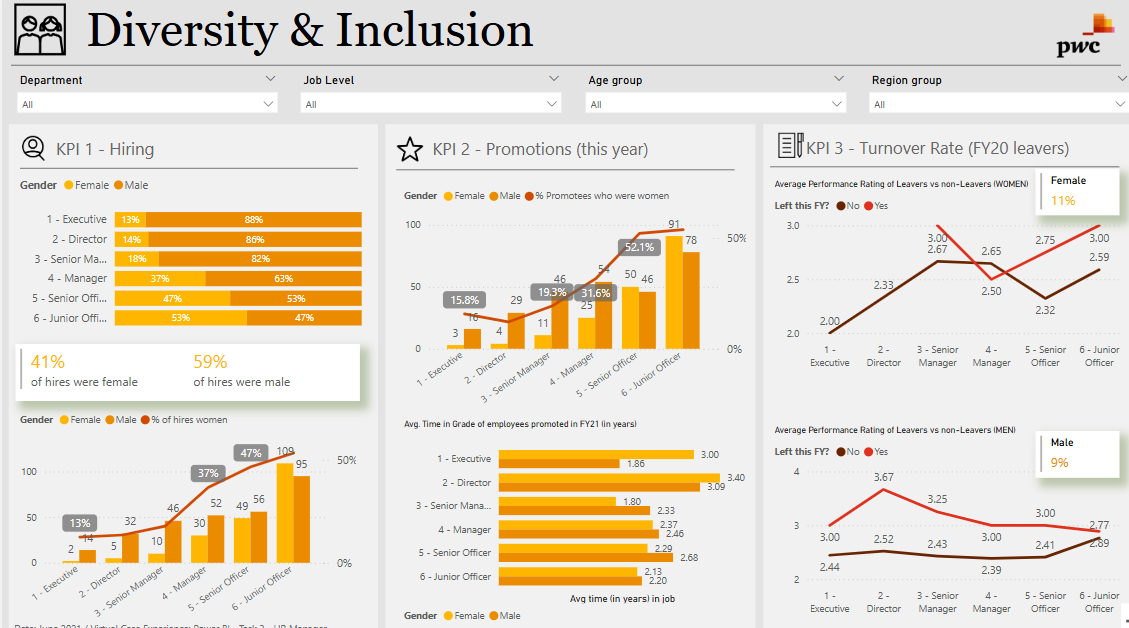

This screenshot's page, from the dashboard's own definition file:
{"tool":"powerbi","page":{"name":"HR Manager (1/2)","canvas":[1280,720],"ordinal":0},"visuals":[{"type":"textbox","box":[88.7,4.8,1172.9,75.2],"z":0},{"type":"basicShape","box":[0,60.8,1253,40.5],"z":1000},{"type":"basicShape","box":[3.9,139.9,418.6,579.7],"z":2000},{"type":"hundredPercentStackedBarChart","fields":{"Series":["HR Manager.Gender"],"Y":["CountNonNull(HR Manager.Employee ID)"],"Category":["HR Manager.Job Level after FY20 promotions"]},"box":[14.5,193.9,389.7,190],"z":3000},{"type":"multiRowCard","fields":{"Values":["HR Manager.% of hires women","HR Manager.% of hires men"]},"box":[14.5,390.7,382.9,63.7],"z":4000},{"type":"lineClusteredColumnComboChart","fields":{"Category":["HR Manager.Job Level after FY20 promotions"],"Series":["HR Manager.Gender"],"Y":["CountNonNull(HR Manager.Employee ID)"],"Y2":["HR Manager.% of hires women"]},"box":[14.5,455.3,382.9,250.8],"z":5000},{"type":"textbox","box":[55,155.3,315.4,35.7],"z":6000},{"type":"basicShape","box":[9.6,175.6,395.5,39.5],"z":7000},{"type":"basicShape","box":[422.5,139.9,419.6,579.7],"z":8000},{"type":"textbox","box":[473,155.7,315.4,35.7],"z":9000},{"type":"basicShape","box":[427.7,175.9,395.5,39.5],"z":10000},{"type":"image","box":[433.1,153.4,39.5,40.5],"z":11000},{"type":"lineClusteredColumnComboChart","fields":{"Y":["CountNonNull(HR Manager.Employee ID)"],"Series":["HR Manager.Gender"],"Y2":["HR Manager.% Promotees who were women"],"Category":["HR Manager.Job Level after FY21 promotions"]},"box":[441.8,207.4,389.7,263.3],"z":12000},{"type":"image","box":[1129,0,151,94.5],"z":13000},{"type":"image","box":[8.7,0,67.5,81],"z":14000},{"type":"image","box":[15.4,153.4,39.5,38.6],"z":15000},{"type":"basicShape","box":[842.1,139.9,419.6,579.7],"z":16000},{"type":"basicShape","box":[843.4,173,408,39.5],"z":17000},{"type":"textbox","box":[888.5,152.5,315.4,35.7],"z":18000},{"type":"clusteredBarChart","title":"Avg. Time in Grade of employees promoted in FY21 (in years)","fields":{"Category":["HR Manager.Job Level after FY20 promotions"],"Series":["HR Manager.Gender"],"Y":["Avg(HR Manager.Time in Job Level @01.07.2020)"]},"box":[441.8,473.6,389.7,236.3],"z":19000},{"type":"lineChart","title":"Average Performance Rating of Leavers vs non-Leavers (WOMEN)","fields":{"Category":["HR Manager.Job Level after FY20 promotions"],"Y":["Avg(HR Manager.FY19 Performance Rating)"],"Series":["HR Manager.FY20 leaver?"]},"box":[852.7,207.4,398.4,218],"z":20000},{"type":"lineChart","title":"Average Performance Rating of Leavers vs non-Leavers (MEN)","fields":{"Category":["HR Manager.Job Level after FY20 promotions"],"Y":["Avg(HR Manager.FY19 Performance Rating)"],"Series":["HR Manager.FY20 leaver?"]},"box":[852.7,479.4,398.4,218],"z":21000},{"type":"multiRowCard","fields":{"Values":["HR Manager.Gender","HR Manager.% Turnover"]},"box":[1148.8,195.8,93.6,52.1],"z":22000},{"type":"multiRowCard","fields":{"Values":["HR Manager.Gender","HR Manager.% Turnover"]},"box":[1148.8,487.1,93.6,52.1],"z":23000},{"type":"slicer","fields":{"Values":["HR Manager.Last Department in FY20"]},"box":[6.8,83.9,310,55.9],"z":24000},{"type":"slicer","fields":{"Values":["HR Manager.Job Level after FY20 promotions"]},"box":[322.5,83.9,310,55.9],"z":25000},{"type":"slicer","fields":{"Values":["HR Manager.Age group"]},"box":[638.2,83.9,310,55.9],"z":26000},{"type":"slicer","fields":{"Values":["HR Manager.Broad region group: nationality 1"]},"box":[954,83.9,310,55.9],"z":27000},{"type":"image","box":[852.7,149.5,47.3,38.6],"z":28000},{"type":"actionButton","box":[1243.1,679.1,36.9,40.2],"z":29000},{"type":"textbox","box":[7.7,689.7,397.4,29.9],"z":30000}]}

Visuals, with their boxes in screenshot pixels (x1, y1, x2, y2), scaled from the page's 1280x720 canvas onto the 1129x628 screenshot:
textbox: {"left": 78, "top": 4, "right": 1113, "bottom": 70}
basicShape: {"left": 0, "top": 53, "right": 1105, "bottom": 88}
basicShape: {"left": 3, "top": 122, "right": 373, "bottom": 627}
hundredPercentStackedBarChart - HR Manager.Gender x CountNonNull(HR Manager.Employee ID): {"left": 13, "top": 169, "right": 357, "bottom": 335}
multiRowCard - HR Manager.% of hires women x HR Manager.% of hires men: {"left": 13, "top": 341, "right": 351, "bottom": 396}
lineClusteredColumnComboChart - HR Manager.Job Level after FY20 promotions x HR Manager.Gender: {"left": 13, "top": 397, "right": 351, "bottom": 616}
textbox: {"left": 49, "top": 135, "right": 327, "bottom": 167}
basicShape: {"left": 8, "top": 153, "right": 357, "bottom": 188}
basicShape: {"left": 373, "top": 122, "right": 743, "bottom": 627}
textbox: {"left": 417, "top": 136, "right": 695, "bottom": 167}
basicShape: {"left": 377, "top": 153, "right": 726, "bottom": 188}
image: {"left": 382, "top": 134, "right": 417, "bottom": 169}
lineClusteredColumnComboChart - CountNonNull(HR Manager.Employee ID) x HR Manager.Gender: {"left": 390, "top": 181, "right": 733, "bottom": 411}
image: {"left": 996, "top": 0, "right": 1128, "bottom": 82}
image: {"left": 8, "top": 0, "right": 67, "bottom": 71}
image: {"left": 14, "top": 134, "right": 48, "bottom": 167}
basicShape: {"left": 743, "top": 122, "right": 1113, "bottom": 627}
basicShape: {"left": 744, "top": 151, "right": 1104, "bottom": 185}
textbox: {"left": 784, "top": 133, "right": 1062, "bottom": 164}
"Avg. Time in Grade of employees promoted in FY21 (in years)" clusteredBarChart: {"left": 390, "top": 413, "right": 733, "bottom": 619}
"Average Performance Rating of Leavers vs non-Leavers (WOMEN)" lineChart: {"left": 752, "top": 181, "right": 1104, "bottom": 371}
"Average Performance Rating of Leavers vs non-Leavers (MEN)" lineChart: {"left": 752, "top": 418, "right": 1104, "bottom": 608}
multiRowCard - HR Manager.Gender x HR Manager.% Turnover: {"left": 1013, "top": 171, "right": 1096, "bottom": 216}
multiRowCard - HR Manager.Gender x HR Manager.% Turnover: {"left": 1013, "top": 425, "right": 1096, "bottom": 470}
slicer - HR Manager.Last Department in FY20: {"left": 6, "top": 73, "right": 279, "bottom": 122}
slicer - HR Manager.Job Level after FY20 promotions: {"left": 284, "top": 73, "right": 558, "bottom": 122}
slicer - HR Manager.Age group: {"left": 563, "top": 73, "right": 836, "bottom": 122}
slicer - HR Manager.Broad region group: nationality 1: {"left": 841, "top": 73, "right": 1115, "bottom": 122}
image: {"left": 752, "top": 130, "right": 794, "bottom": 164}
actionButton: {"left": 1096, "top": 592, "right": 1128, "bottom": 627}
textbox: {"left": 7, "top": 602, "right": 357, "bottom": 627}
